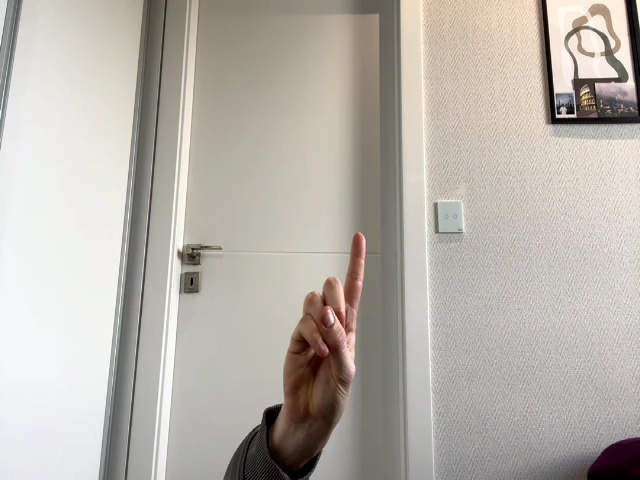Z: (284, 232, 366, 429)
